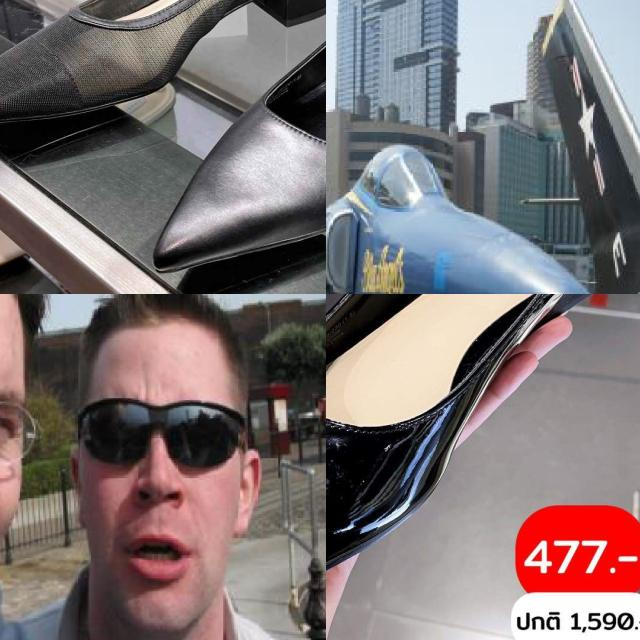No_Ear-Protection: (232, 444, 264, 538)
Sandals: (326, 294, 640, 640), (121, 0, 326, 294), (0, 0, 326, 178)
face_nomask: (82, 394, 242, 586)
glasses: (71, 393, 254, 487), (0, 371, 42, 476)
head_nohelmet: (63, 294, 256, 388)
person: (48, 294, 326, 640)
